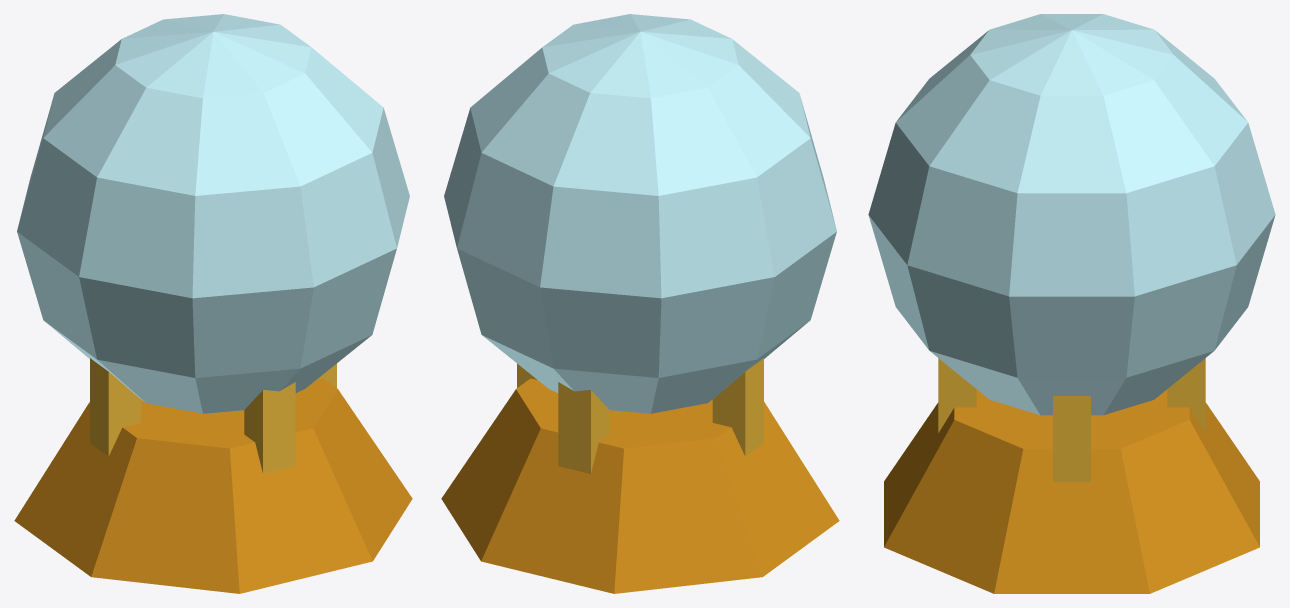
The model's file is CrystalBall.fbx.
The picture shows the model from 3 angles, left to right: view 1: azimuth 30°, elevation 25°; view 2: azimuth 150°, elevation 25°; view 3: azimuth 270°, elevation 25°; orthographic projection.
Parts seen in each view (by area): view 1: CrystalBall; view 2: CrystalBall; view 3: CrystalBall.
Part boxes in pixels (box(x1,y1,x2,y2)): CrystalBall: box(14, 14, 412, 593); CrystalBall: box(441, 14, 839, 593); CrystalBall: box(868, 14, 1275, 593).
Size of the model in its own units: 1.52 by 2.1 by 1.6.
Materials: 1 (1 with a texture image).
